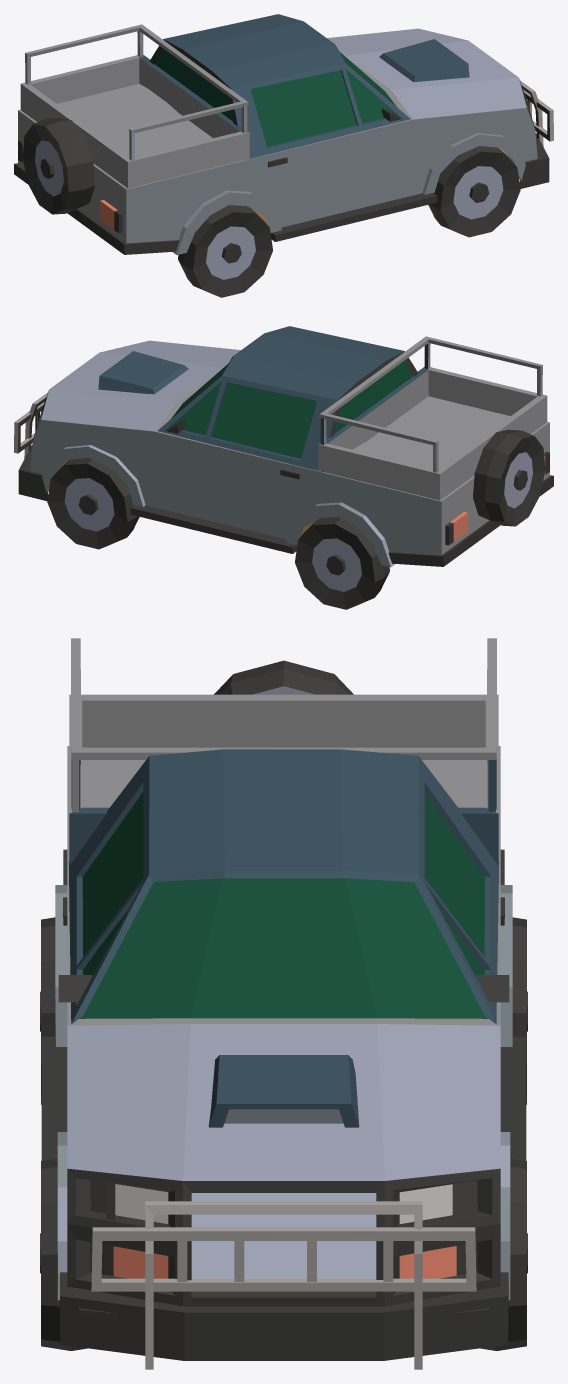
The model's file is transport_06.fbx.
3 views of the same model, one above another, from view 1: azimuth 30°, elevation 25°; view 2: azimuth 150°, elevation 25°; view 3: azimuth 270°, elevation 25° (orthographic). The views are drawn at different scales.
Visible parts, largest first — view 1: transport_06; view 2: transport_06; view 3: transport_06.
Part boxes in pixels (bbox=[...]): transport_06: bbox=[14, 14, 553, 297]; transport_06: bbox=[14, 326, 553, 609]; transport_06: bbox=[40, 638, 527, 1369].
Bounding box in the file's own units: 259 × 118 × 99.17.
